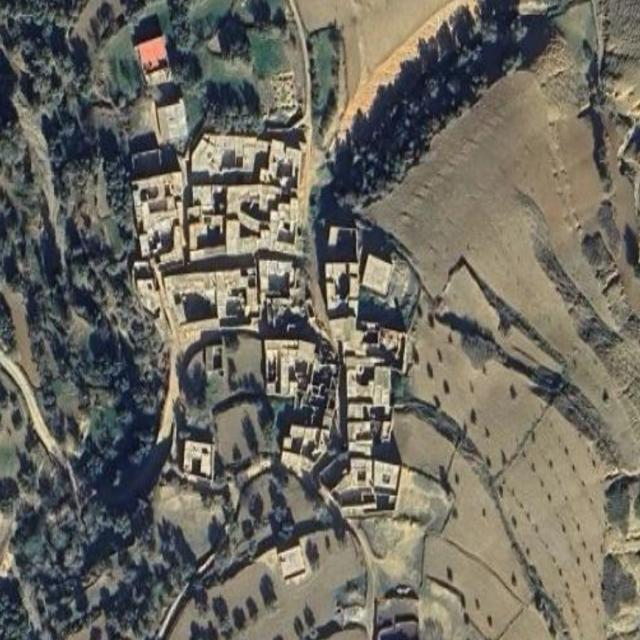Countryside roofs: (185, 182, 311, 268), (122, 174, 184, 268), (278, 422, 326, 487), (263, 340, 312, 402), (215, 259, 256, 333), (130, 31, 176, 95), (151, 98, 197, 161), (314, 261, 363, 320), (264, 134, 310, 189), (176, 441, 223, 481), (364, 255, 403, 295), (374, 464, 411, 499), (274, 551, 314, 579), (346, 460, 376, 490)
